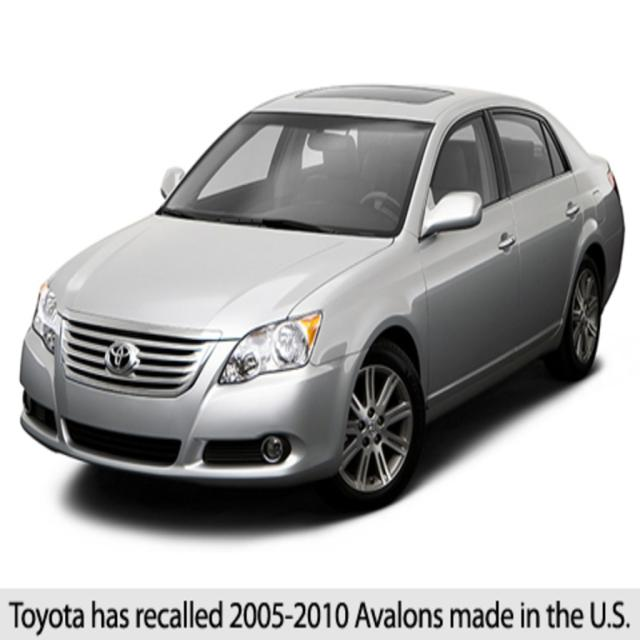Passenger Car: (21, 80, 624, 522)
